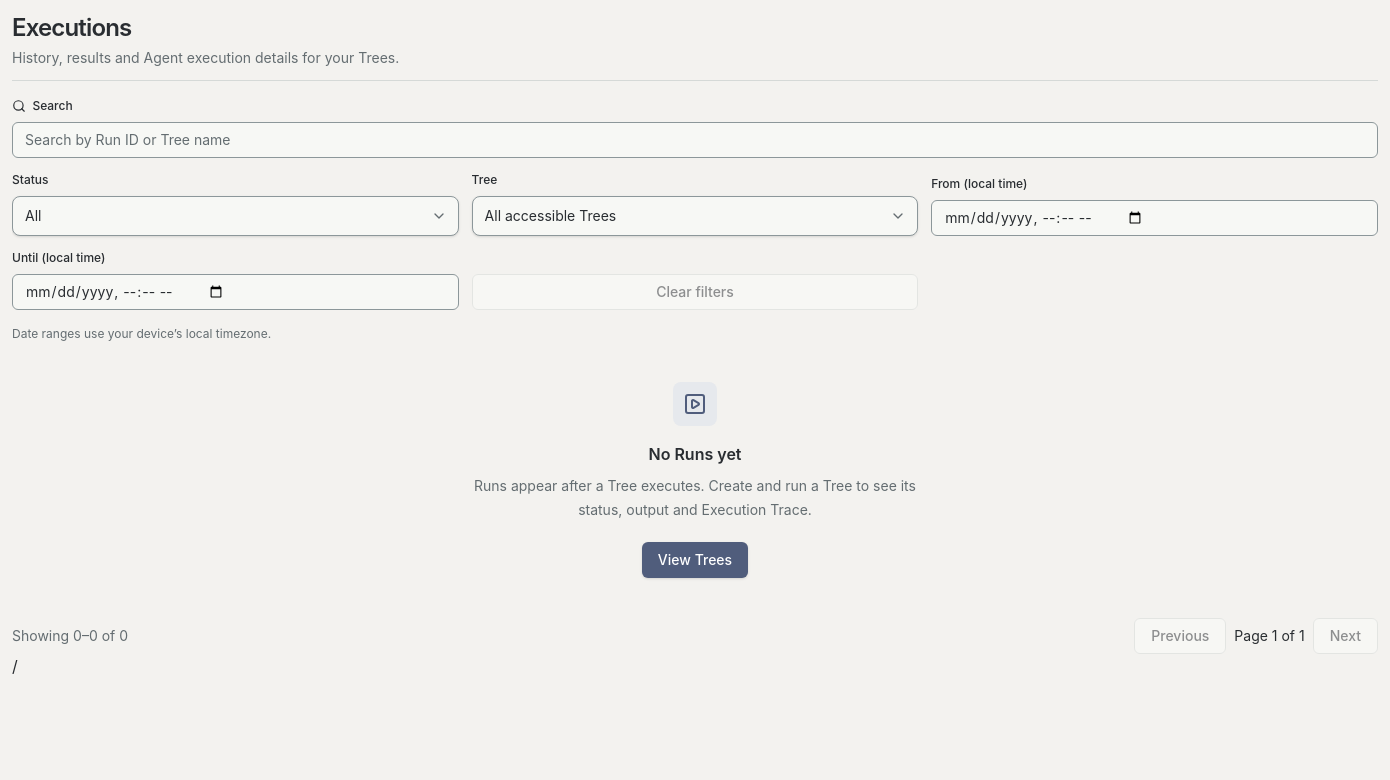
Test: explains Runs and links to existing Trees
Expected: the heading "No Runs yet" is shown, 648,442 -> 742,466
Click the link "View Trees": {"x": 695, "y": 560} 642,542 -> 748,578
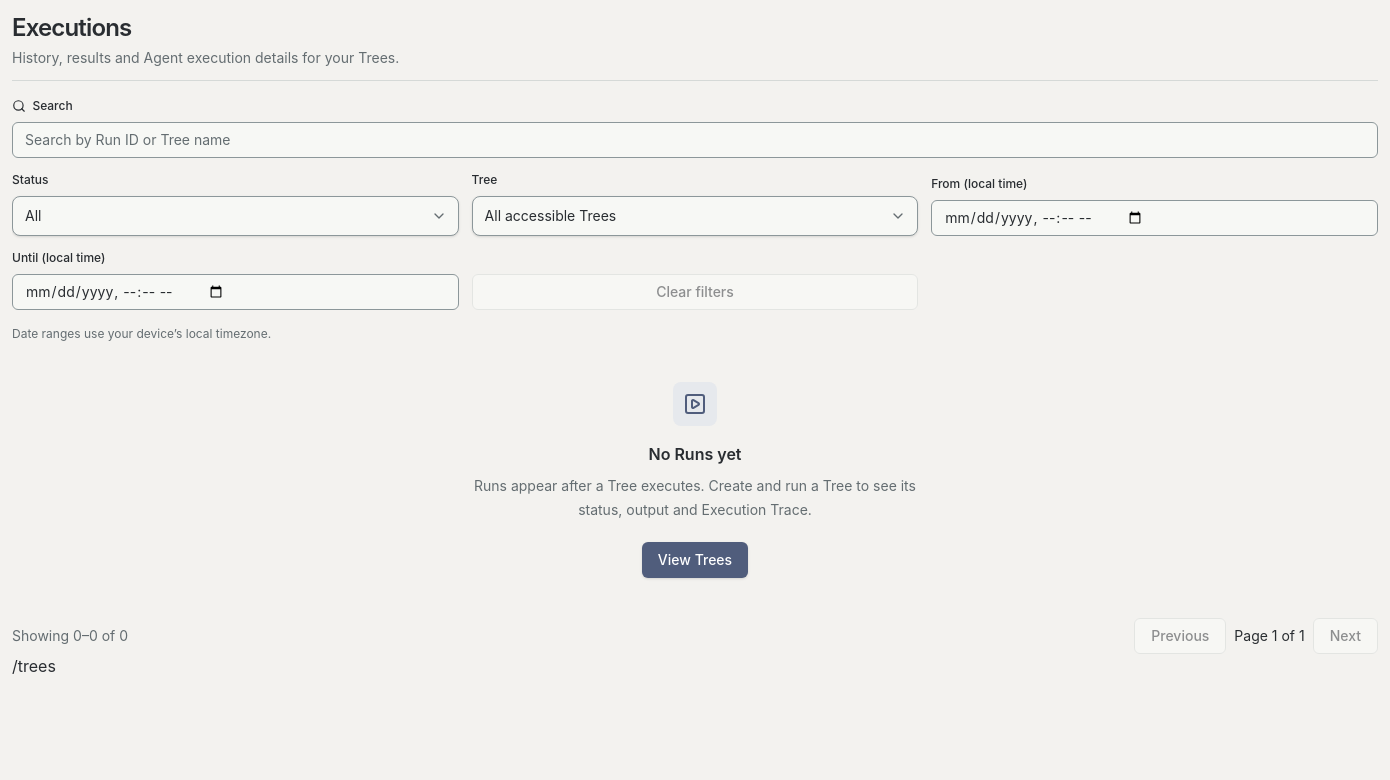
Expected: the text with test id "location" reads "/trees", 12,656 -> 56,676
